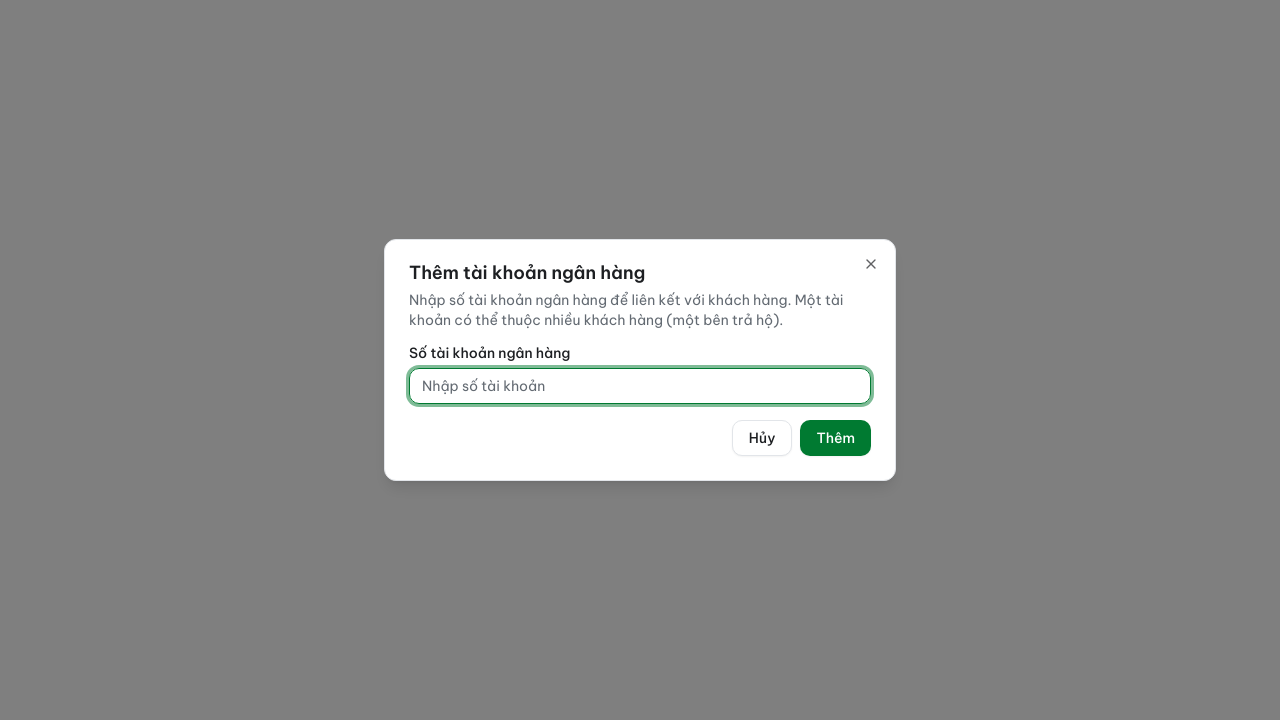
Test: CustomerBankAccountDialog › keeps the plain inline hint for a same-customer conflict (no linkedCustomerNames)
Type "0123456789" into the field labelled "Số tài khoản ngân hàng" at (640, 386), box [409,368,871,404]
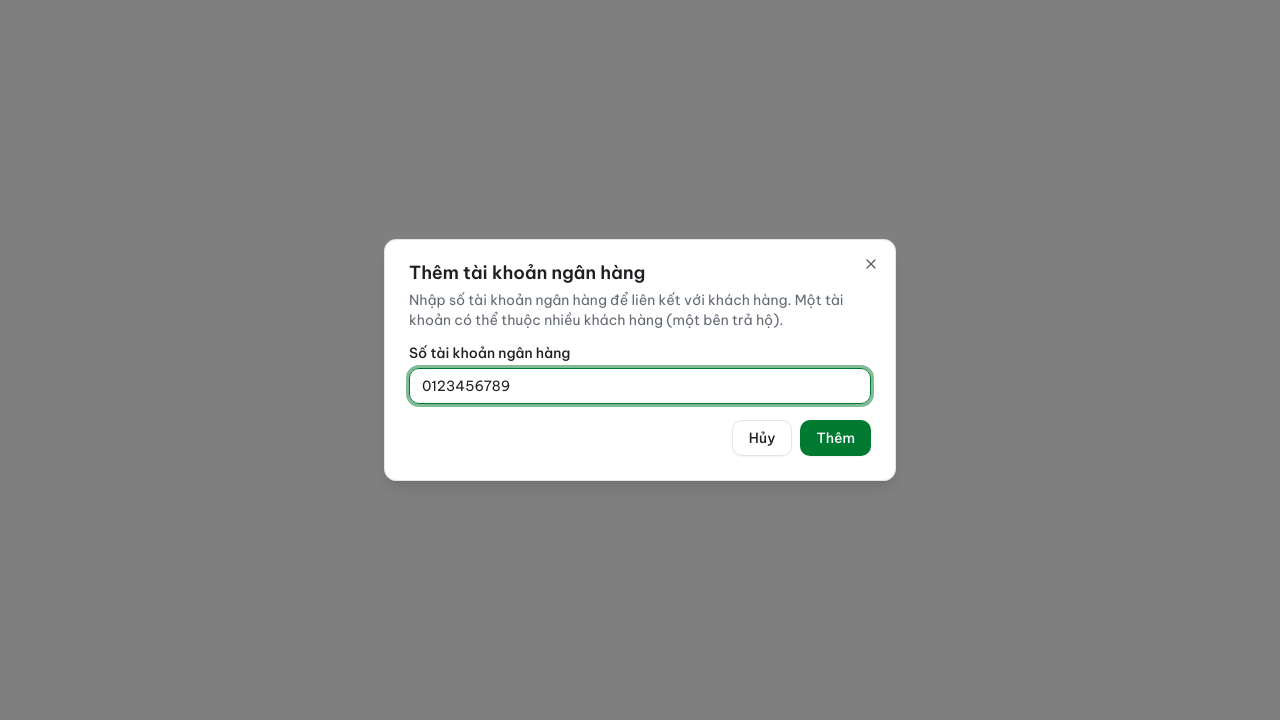
Click the button "Thêm" at (836, 438), box [800,420,871,456]
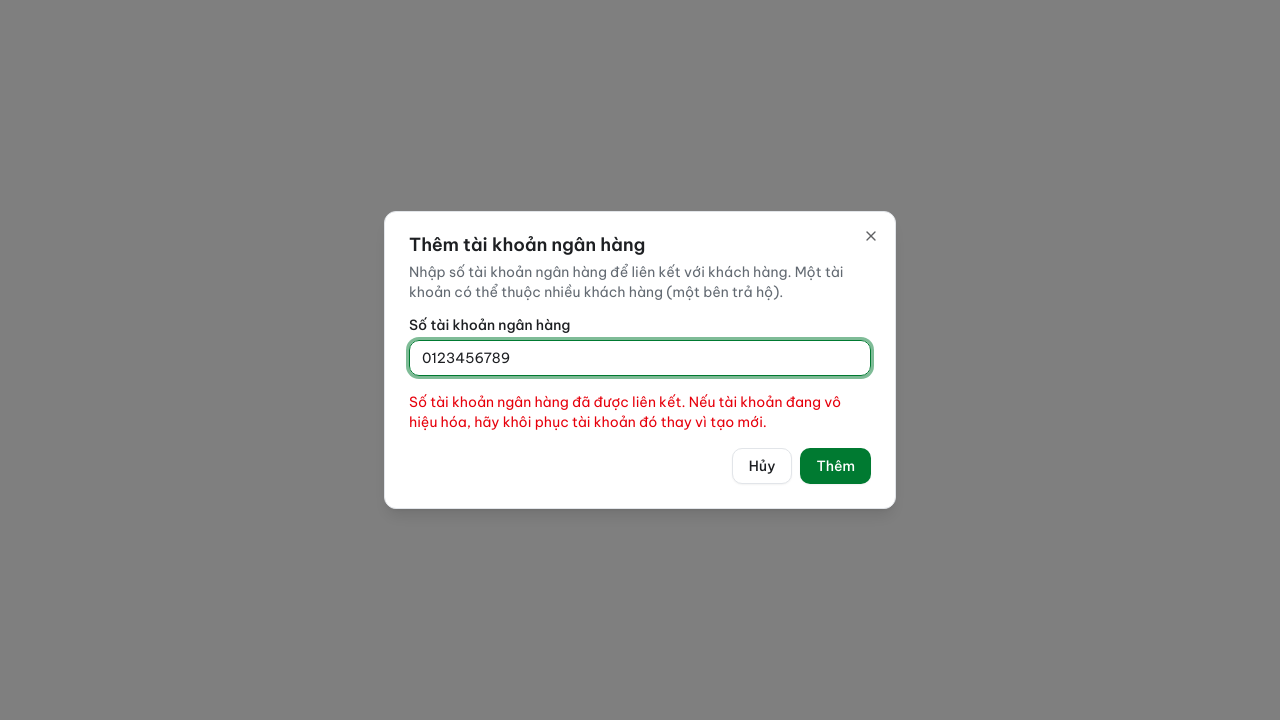
Now the message shows "đã được liên kết", box [409,393,841,431]
